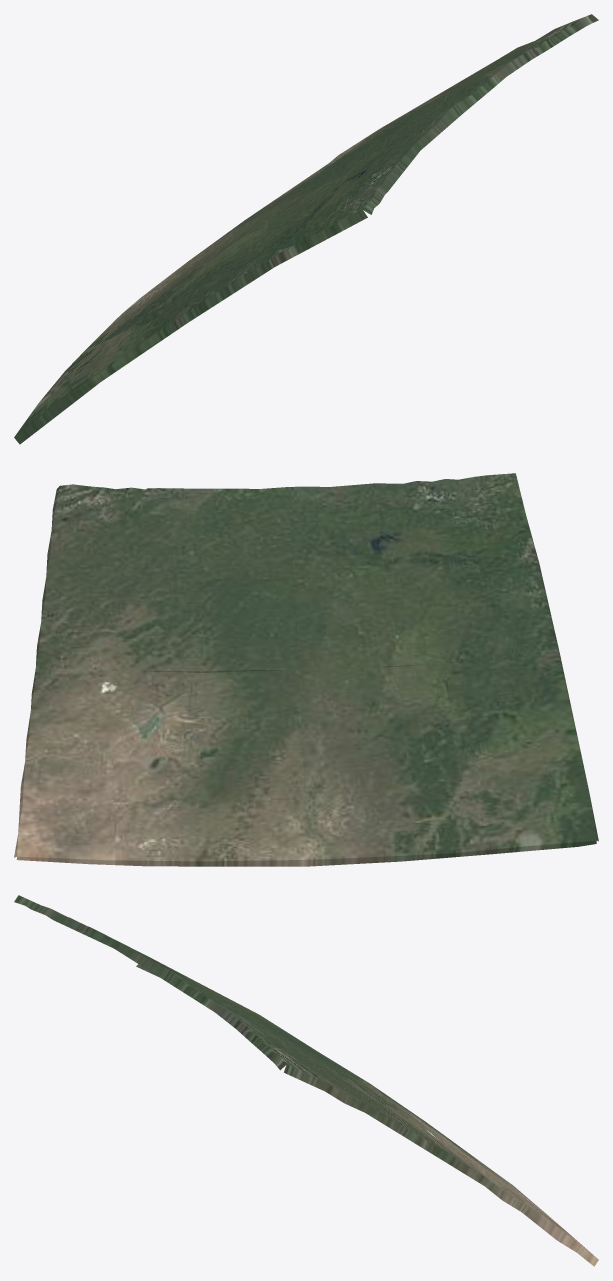
The picture shows the model from 3 angles, top to bottom: view 1: azimuth 30°, elevation 25°; view 2: azimuth 150°, elevation 25°; view 3: azimuth 270°, elevation 25°; orthographic projection. The views are drawn at different scales.
Size of the model in its own units: 1854218 by 827498 by 1685958.
1 material, 1 textured.
